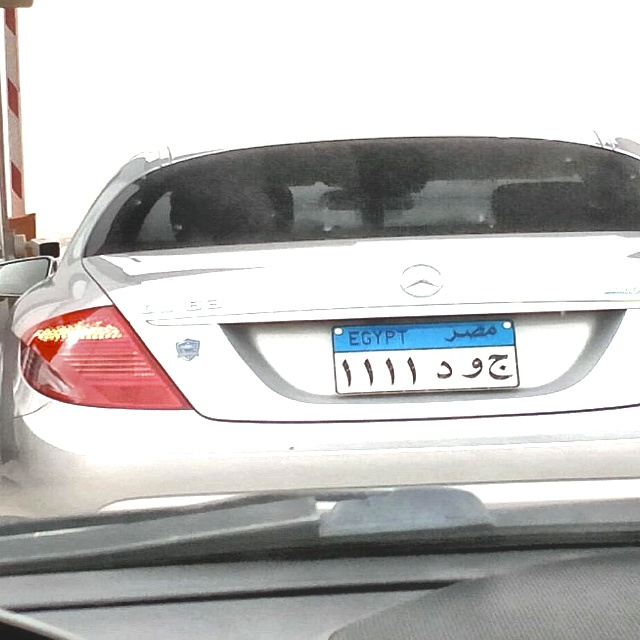License Plate: (332, 319, 520, 396)
